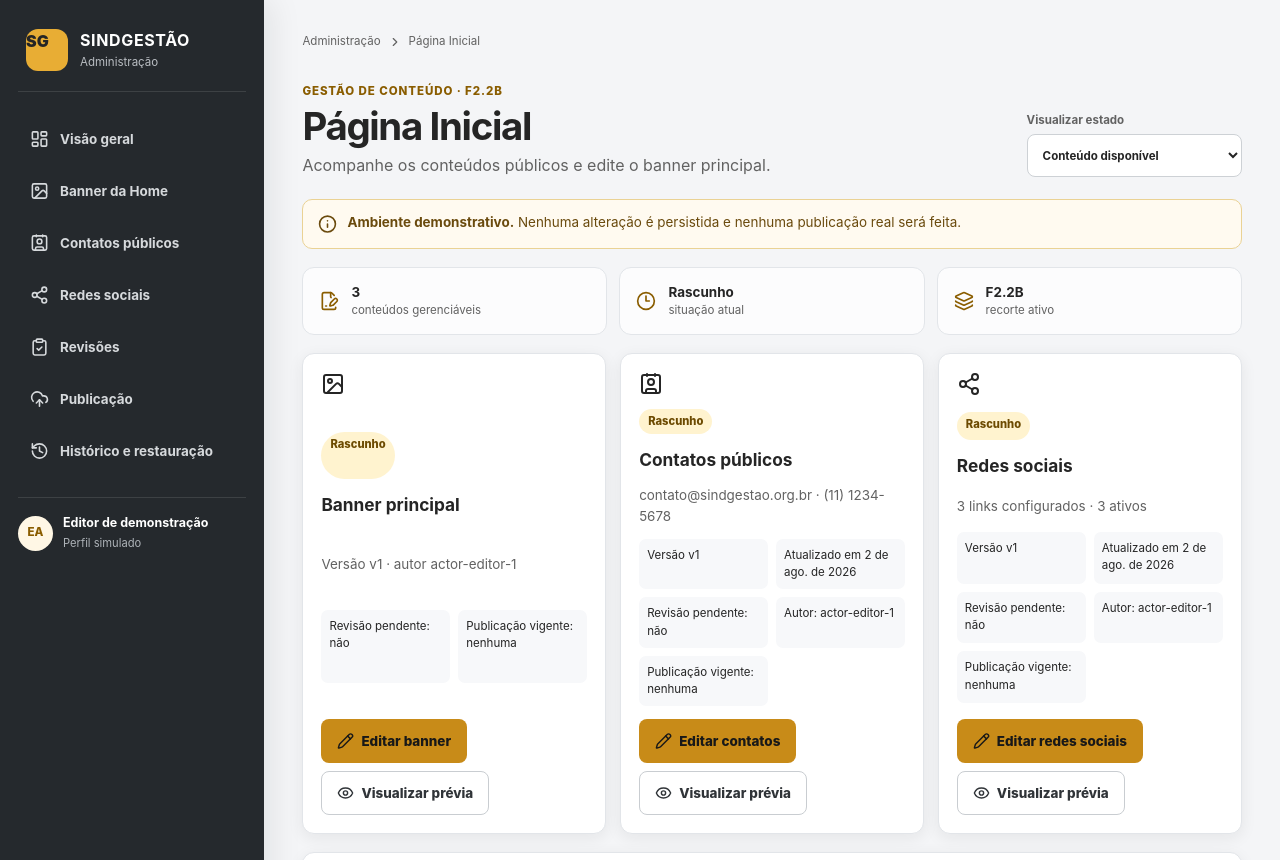
Test case: HomeManagementPage › opens the editor from the dashboard action Editar contatos
Click the link "Editar contatos" at x=718, y=741, box 639,719 -> 796,763
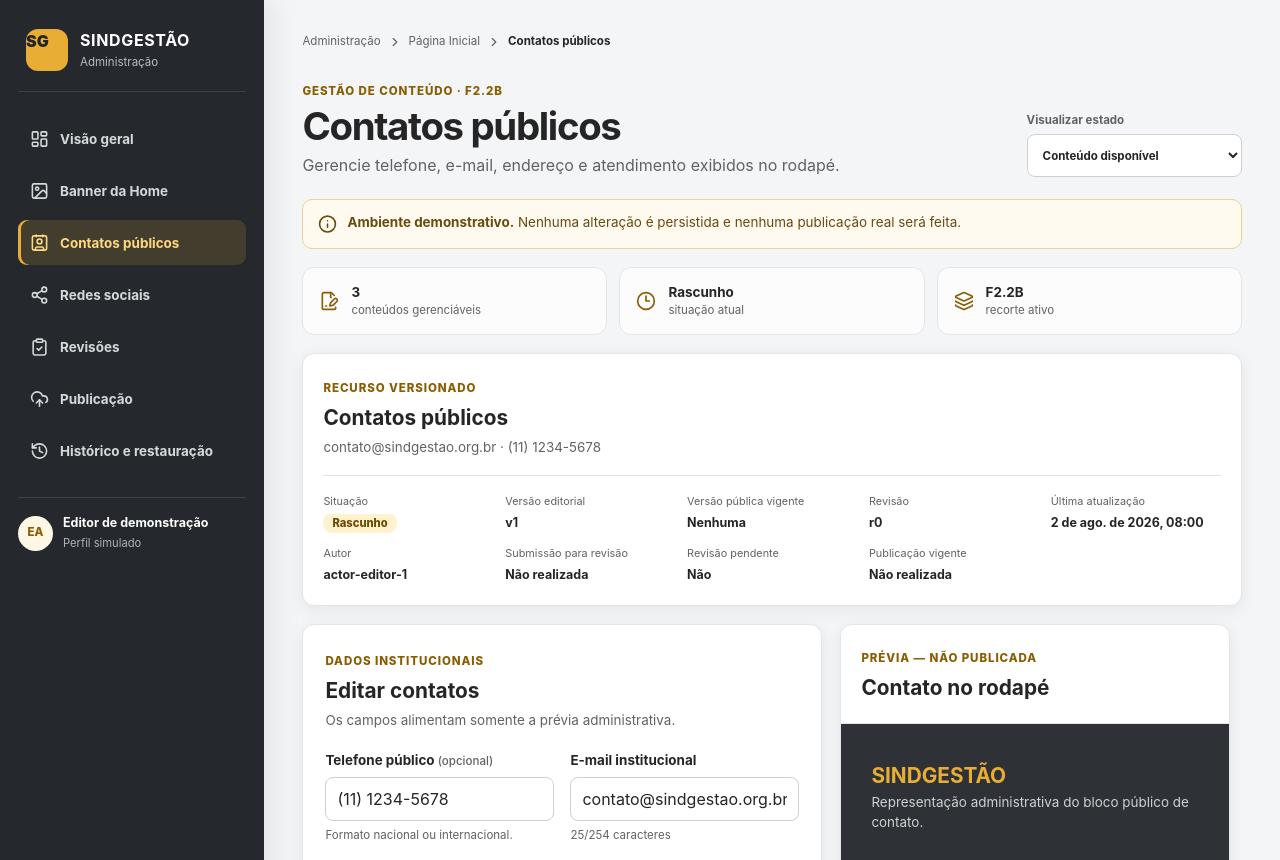
Expected: the heading "Contatos públicos" below "Gestão de conteúdo · F2.2B" is shown, 302,103 -> 620,149
